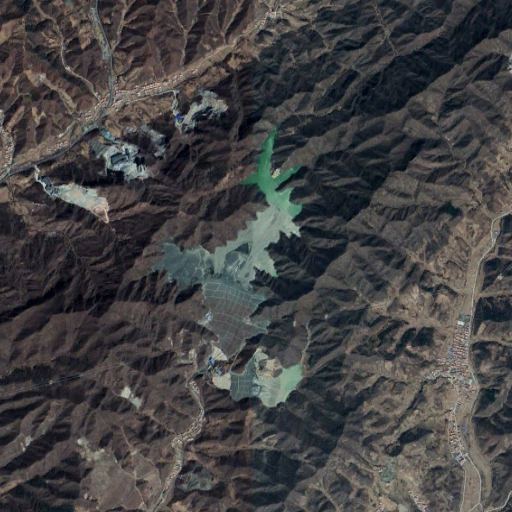tp: (150, 125, 301, 360), (211, 348, 302, 409)
